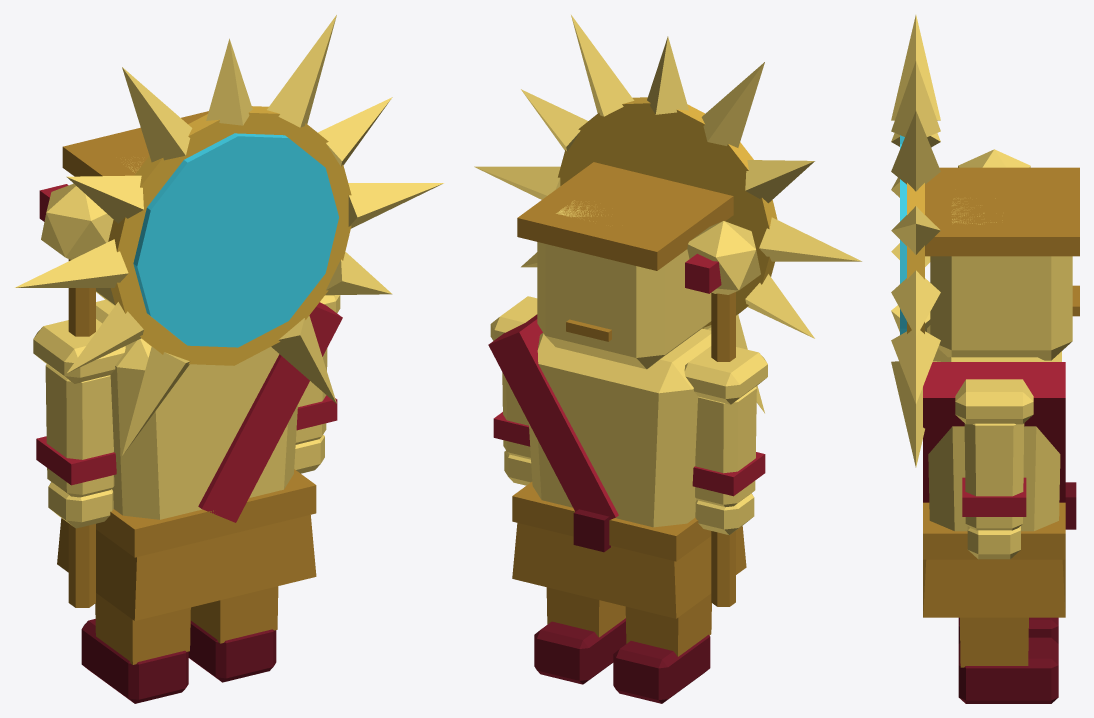
The model's file is CH_GoldenIdol.fbx.
3 views of the same model, side by side, from view 1: azimuth 30°, elevation 25°; view 2: azimuth 150°, elevation 25°; view 3: azimuth 270°, elevation 25° (orthographic). The views are drawn at different scales.
Visible parts, largest first — view 1: DiscBack, Body, Skirt, Disc, Sash, Belt, ArmL, BootL, LegL, Orb, Rod, BootR (+19 smaller); view 2: Body, Head, Laurel, Disc, Skirt, Sash, ArmL, Belt, BootL, BootR, Rod, Orb (+20 smaller); view 3: Head, Laurel, Skirt, Sash, Body, ArmR, BootR, Belt, LegR, PauldronR, Ray4, Ray1 (+12 smaller).
Part boxes in pixels (x1,y1,x2,y2): DiscBack: (133,133,338,347); Body: (96,299,297,519); Skirt: (57,515,316,620); Disc: (108,106,351,365); Sash: (198,302,342,522); Belt: (96,469,316,557); ArmL: (45,364,114,497); BootL: (81,619,188,703); LegL: (95,593,190,664); Orb: (41,183,113,259); Rod: (68,259,95,607); BootR: (188,620,276,682); Body: (529,328,711,527); Head: (537,200,711,369); Laurel: (517,162,733,270); Disc: (558,97,777,328); Skirt: (512,523,746,618); Sash: (488,314,618,519); ArmL: (695,386,756,507); Belt: (512,482,711,561); BootL: (613,634,710,703); BootR: (534,618,626,684); Rod: (711,292,735,606); Orb: (687,221,760,294); Head: (930,198,1072,360); Laurel: (925,167,1079,256); Skirt: (923,559,1065,617); Sash: (923,362,1065,502); Body: (927,325,1061,531); ArmR: (964,423,1024,530); BootR: (958,637,1058,703); Belt: (923,502,1065,559); LegR: (960,617,1028,667); PauldronR: (955,379,1033,424); Ray4: (891,111,940,191); Ray1: (891,330,940,403).
Bounding box in the file's own units: 1.28 × 0.53 × 1.9.
